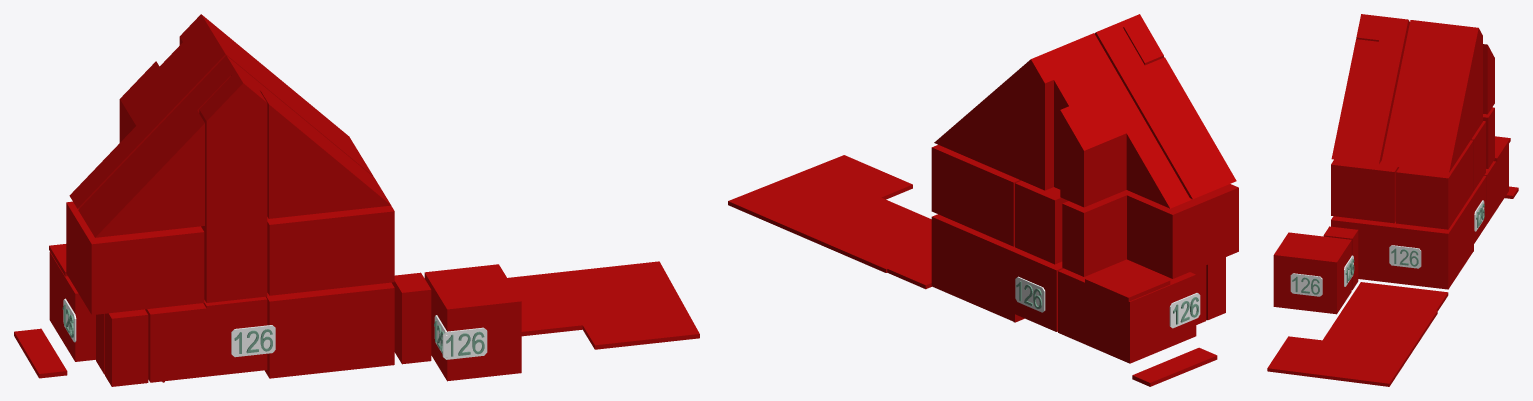
3 renders of one model, left to right at view 1: azimuth 30°, elevation 25°; view 2: azimuth 150°, elevation 25°; view 3: azimuth 270°, elevation 25°, orthographic. The views are drawn at different scales.
Visible parts, largest first — view 1: g_7, g_17, g_11, g_6, g_1, g_9, g_8, g_3, g_0, g_14, g_5, g_4 (+4 smaller); view 2: g_6, g_17, g_11, g_1, g_7, g_2, g_10, g_12, g_16, g_15, g_4, g_8 (+3 smaller); view 3: g_6, g_17, g_1, g_7, g_0, g_10, g_9, g_2, g_12, g_5, g_8, g_41 (+3 smaller).
Part boxes in pixels (x1=…): g_7: x1=78, y1=55, x2=391, y2=237; g_17: x1=507, y1=261, x2=699, y2=349; g_11: x1=66, y1=201, x2=204, y2=314; g_6: x1=69, y1=14, x2=373, y2=208; g_1: x1=264, y1=282, x2=394, y2=378; g_9: x1=267, y1=205, x2=394, y2=295; g_8: x1=199, y1=70, x2=267, y2=225; g_3: x1=96, y1=296, x2=267, y2=382; g_0: x1=424, y1=264, x2=521, y2=381; g_14: x1=201, y1=219, x2=267, y2=302; g_5: x1=392, y1=272, x2=431, y2=364; g_4: x1=105, y1=309, x2=148, y2=386; g_6: x1=934, y1=33, x2=1190, y2=208; g_17: x1=728, y1=155, x2=931, y2=289; g_11: x1=1062, y1=184, x2=1238, y2=278; g_1: x1=931, y1=214, x2=1063, y2=331; g_7: x1=1094, y1=23, x2=1236, y2=198; g_2: x1=1058, y1=259, x2=1196, y2=363; g_10: x1=931, y1=144, x2=1020, y2=246; g_12: x1=1015, y1=180, x2=1068, y2=264; g_16: x1=1085, y1=262, x2=1170, y2=301; g_15: x1=1132, y1=347, x2=1217, y2=386; g_4: x1=1206, y1=257, x2=1225, y2=320; g_8: x1=1119, y1=14, x2=1163, y2=65; g_6: x1=1381, y1=20, x2=1494, y2=172; g_17: x1=1267, y1=282, x2=1448, y2=386; g_1: x1=1331, y1=175, x2=1486, y2=289; g_7: x1=1331, y1=16, x2=1409, y2=164; g_0: x1=1273, y1=232, x2=1351, y2=314; g_10: x1=1396, y1=140, x2=1473, y2=229; g_9: x1=1331, y1=159, x2=1398, y2=223; g_2: x1=1484, y1=144, x2=1508, y2=224; g_12: x1=1471, y1=121, x2=1485, y2=190; g_5: x1=1323, y1=226, x2=1358, y2=290; g_8: x1=1356, y1=14, x2=1383, y2=41; g_41: x1=1290, y1=273, x2=1322, y2=296.
Bounding box in the file's own units: 20.54 × 10.25 × 10.64.
